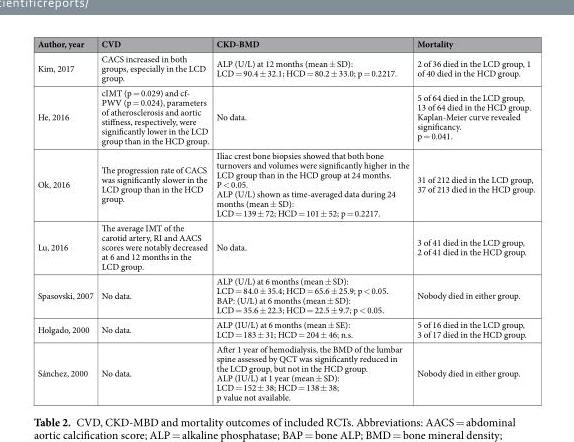table: (36, 37, 534, 402)
table column: (212, 37, 412, 402), (412, 37, 534, 402), (96, 37, 212, 402), (36, 37, 96, 402)
table column header: (36, 37, 534, 50)
table row: (36, 147, 534, 220), (36, 84, 534, 147), (36, 341, 534, 402), (36, 220, 534, 273), (36, 273, 534, 316), (36, 50, 534, 84), (36, 316, 534, 341), (36, 37, 534, 50)
